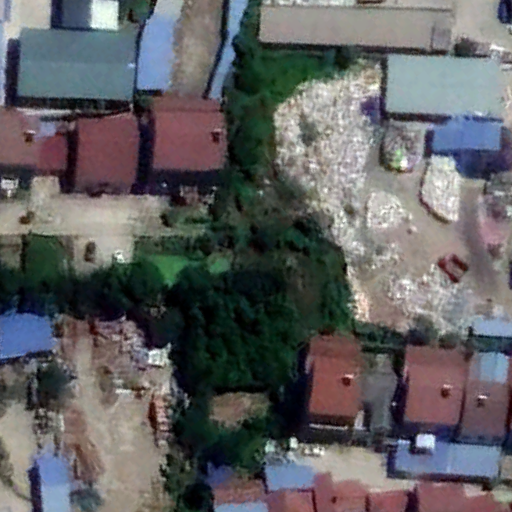msw: (271, 60, 475, 336)
